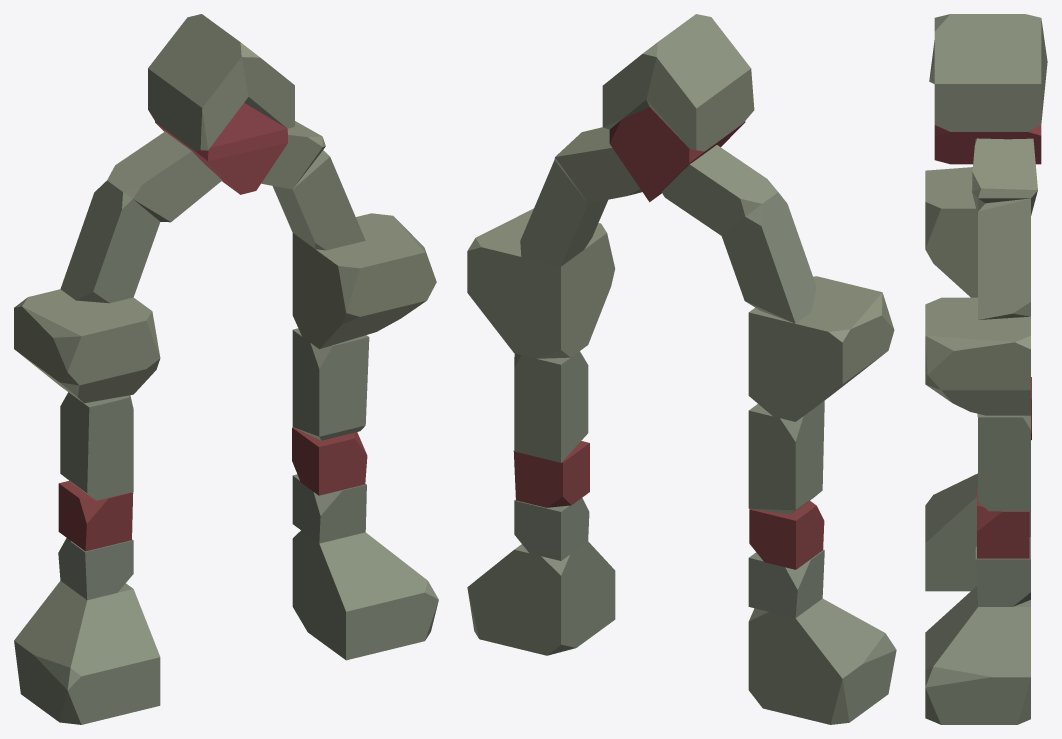
Rendered from door_arch_single.fbx.
3 renders of one model, left to right at view 1: azimuth 30°, elevation 25°; view 2: azimuth 150°, elevation 25°; view 3: azimuth 270°, elevation 25°, orthographic. The views are drawn at different scales.
Visible parts, largest first — view 1: door_arch_single; view 2: door_arch_single; view 3: door_arch_single.
Boxes of the visible parts, bbox=[...] form: door_arch_single: bbox=[14, 14, 438, 724]; door_arch_single: bbox=[467, 14, 896, 724]; door_arch_single: bbox=[925, 14, 1047, 724].
Bounding box in the file's own units: 200 × 325 × 57.91.
